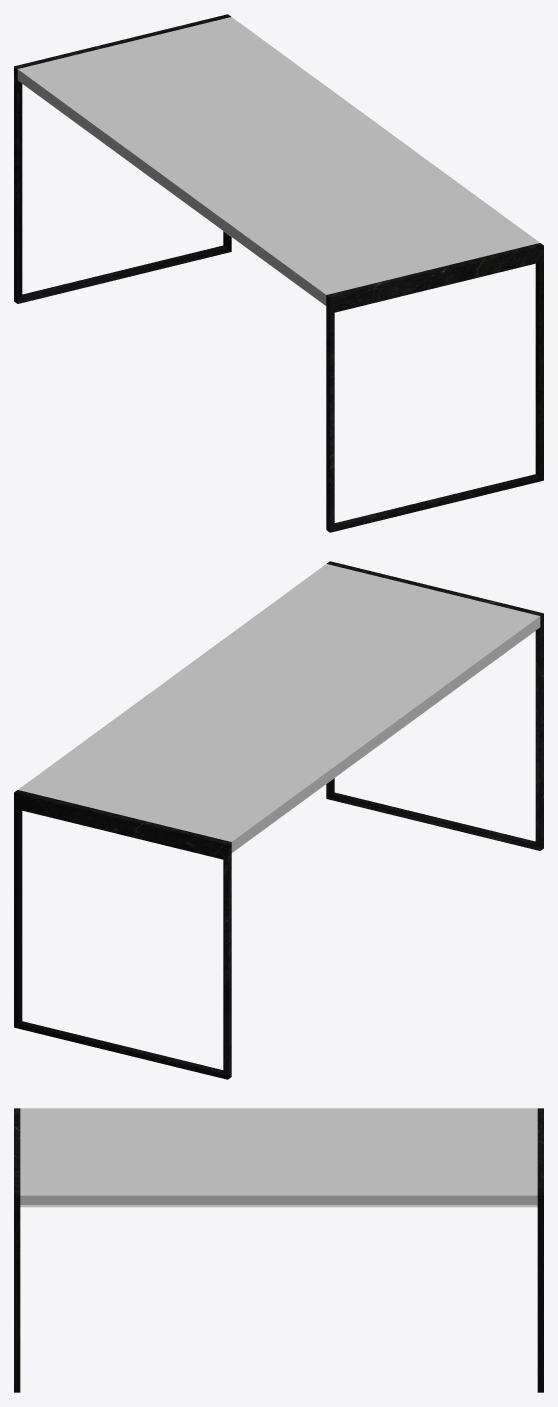
File: mesaf.obj
The picture shows the model from 3 angles, top to bottom: view 1: azimuth 30°, elevation 25°; view 2: azimuth 150°, elevation 25°; view 3: azimuth 270°, elevation 25°; orthographic projection. The views are drawn at different scales.
Parts seen in each view (by area): view 1: marmol_Plane.003, base_Plane.002; view 2: marmol_Plane.003, base_Plane.002; view 3: marmol_Plane.003, base_Plane.002.
Boxes of the visible parts, x1,y1,x2,y2 form: marmol_Plane.003: (17, 17, 539, 305); base_Plane.002: (14, 14, 543, 532); marmol_Plane.003: (18, 564, 540, 852); base_Plane.002: (14, 561, 543, 1079); marmol_Plane.003: (20, 1108, 537, 1207); base_Plane.002: (14, 1108, 543, 1392).
Bounding box in the file's own units: 1 × 1.05 × 2.56.
